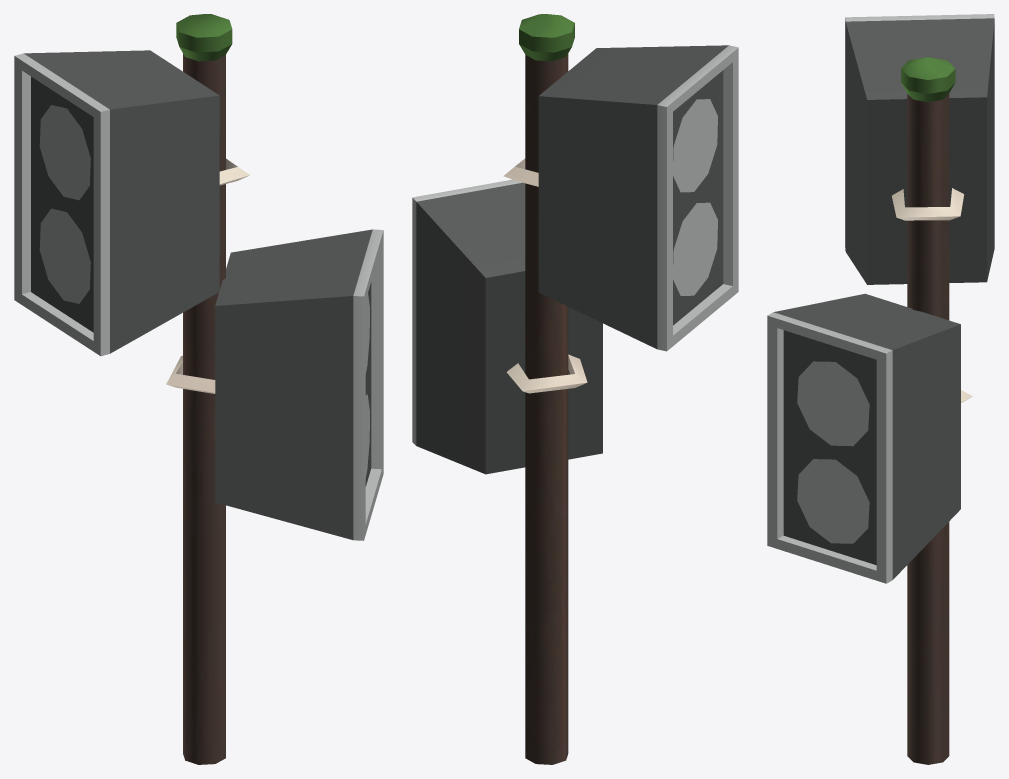
Rendered from speaker-post.glb.
The picture shows the model from 3 angles, left to right: view 1: azimuth 30°, elevation 25°; view 2: azimuth 150°, elevation 25°; view 3: azimuth 270°, elevation 25°; orthographic projection. The views are drawn at different scales.
Parts seen in each view (by area): view 1: SpeakerPost; view 2: SpeakerPost; view 3: SpeakerPost.
Part boxes in pixels (x1,y1,x2,y2): SpeakerPost: [14, 14, 383, 764]; SpeakerPost: [412, 14, 738, 764]; SpeakerPost: [767, 14, 994, 764].
Size of what is drawn, in the model's own units: 2.52 by 5.73 by 1.69.
Materials: 3 (3 with a texture image).
